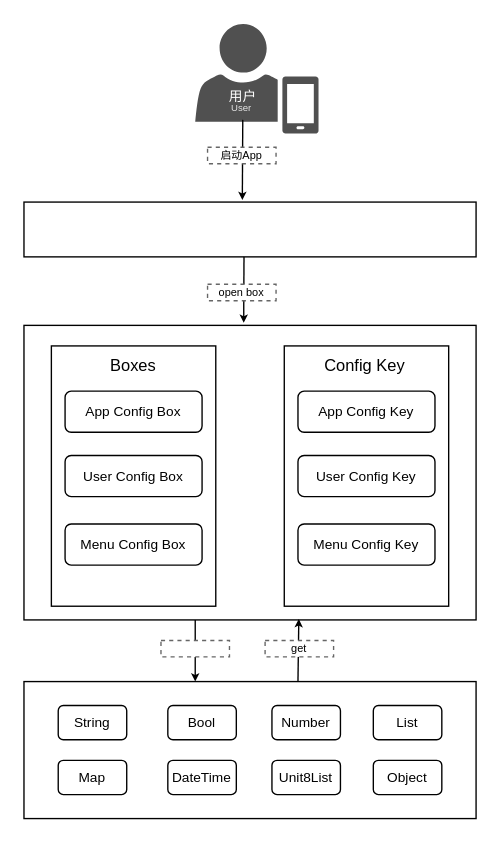
Some shapes in this 500 by 843 pixel diagram are drawn without their labels. Here are the shapes that lost their labels. From the top down, the box of each, then its label:
(23, 201, 476, 257): Hive init
(160, 639, 229, 657): put
